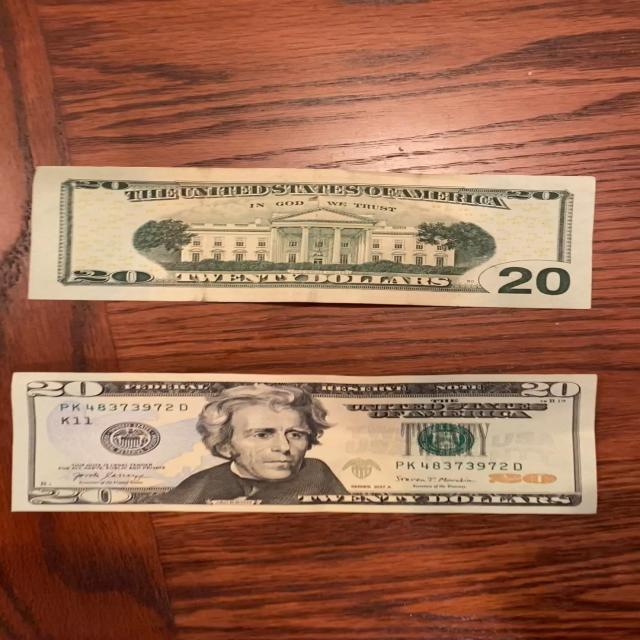20-Back: (29, 160, 602, 313)
20-Front: (8, 369, 610, 522)
